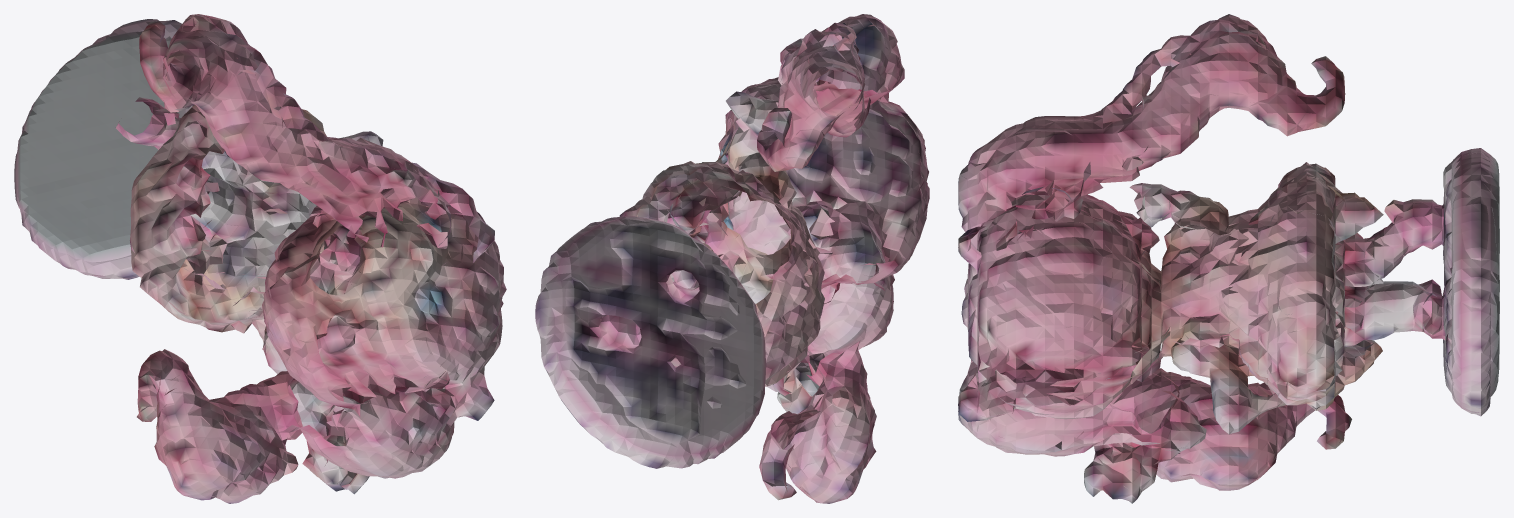
3 views of the same model, side by side, from view 1: azimuth 30°, elevation 25°; view 2: azimuth 150°, elevation 25°; view 3: azimuth 270°, elevation 25° (orthographic). The views are drawn at different scales.
Visible parts, largest first — view 1: geometry_0; view 2: geometry_0; view 3: geometry_0.
Boxes of the visible parts, bbox=[...] form: geometry_0: bbox=[14, 14, 506, 503]; geometry_0: bbox=[535, 14, 929, 503]; geometry_0: bbox=[958, 14, 1499, 503].
Bounding box in the file's own units: 0.5485 × 0.959 × 1.
